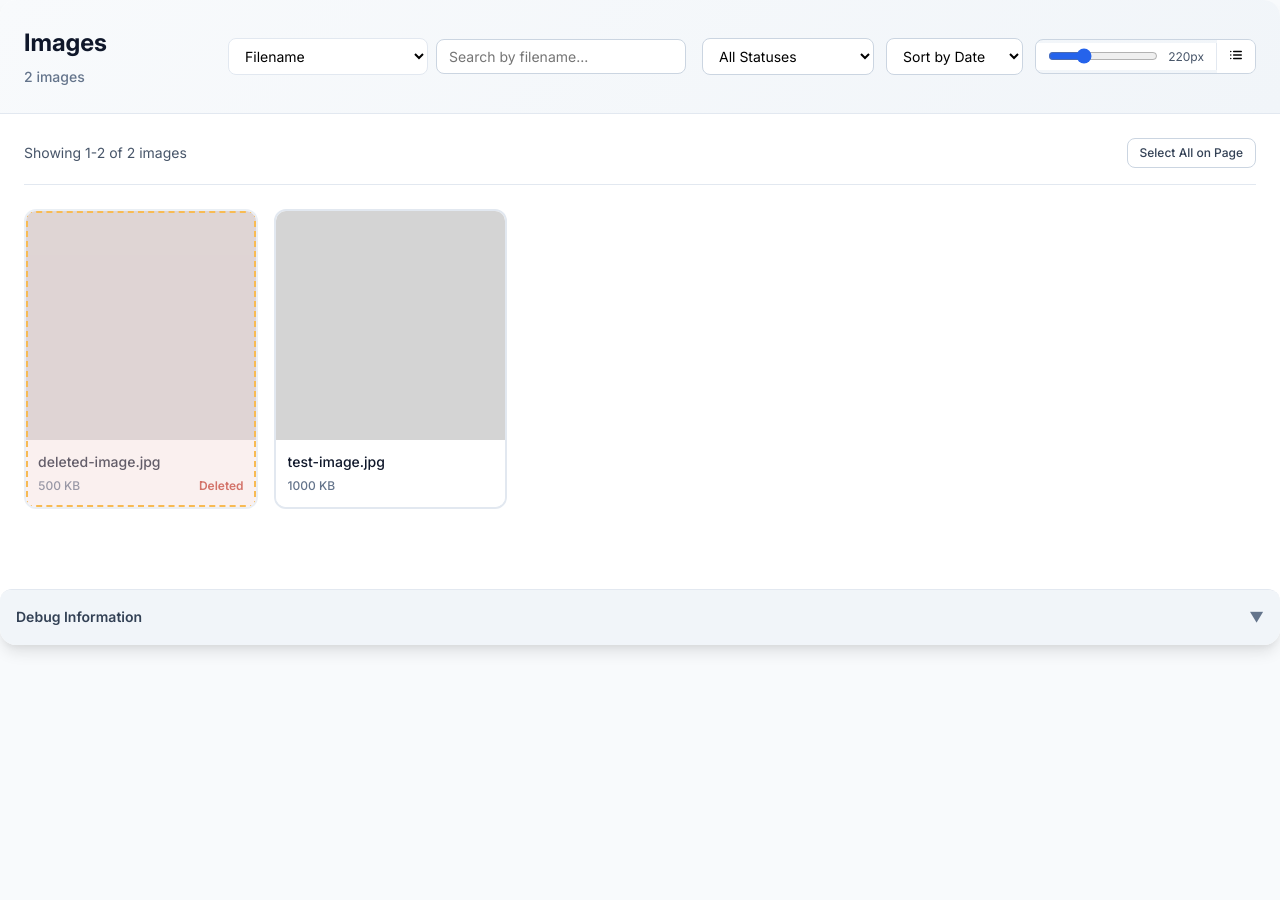
Test: ImageGallery › Gallery Controls › filters images based on search term
Type "test-image" into the field with placeholder "Search by filename..." at (561, 56), box [436,39,686,74]
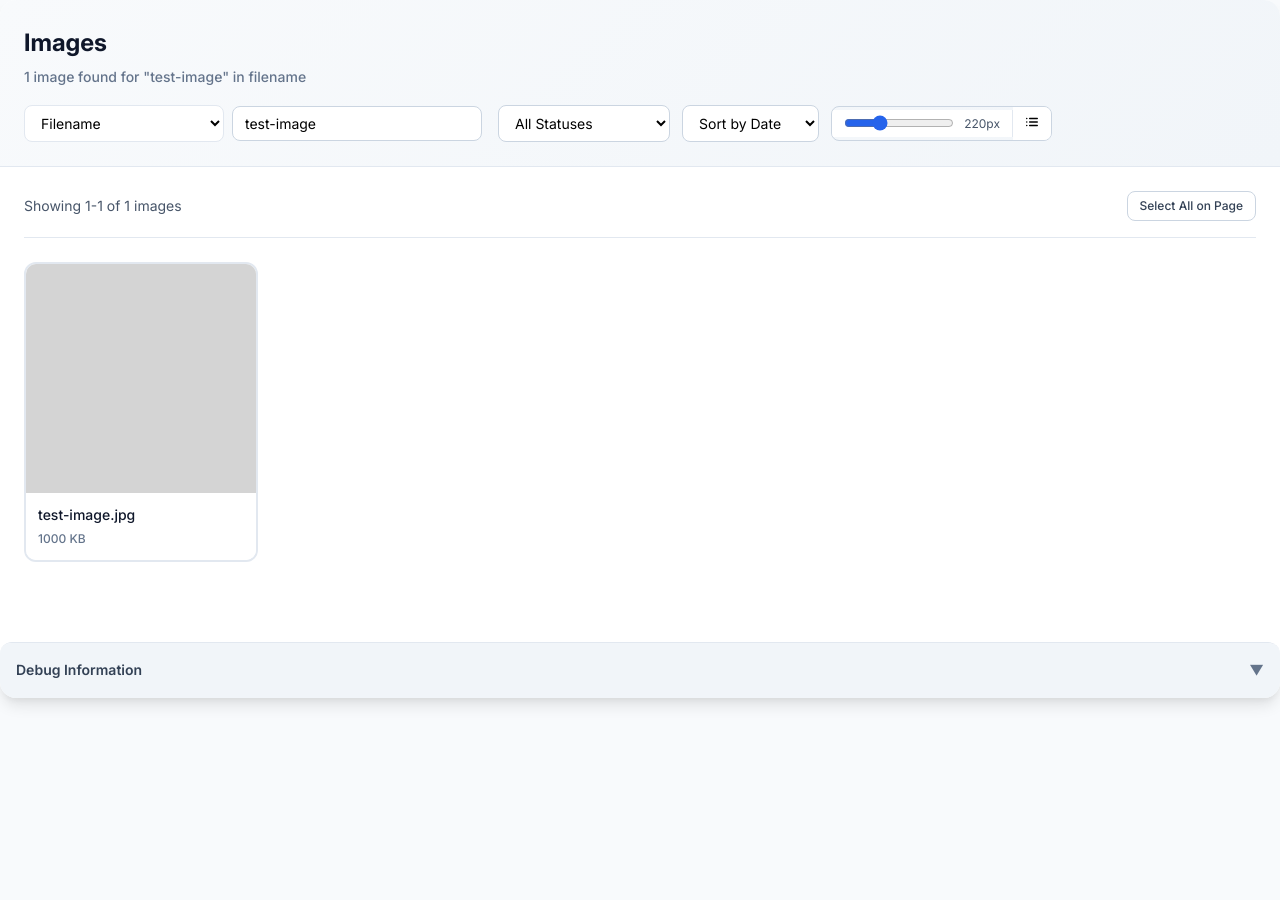
Expected: the text "test-image.jpg" is shown, [38,506,135,523]
Expected: the text "deleted-image.jpg" is gone
